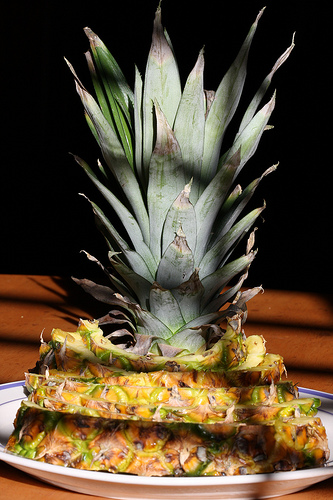pineapple: (5, 8, 331, 477)
